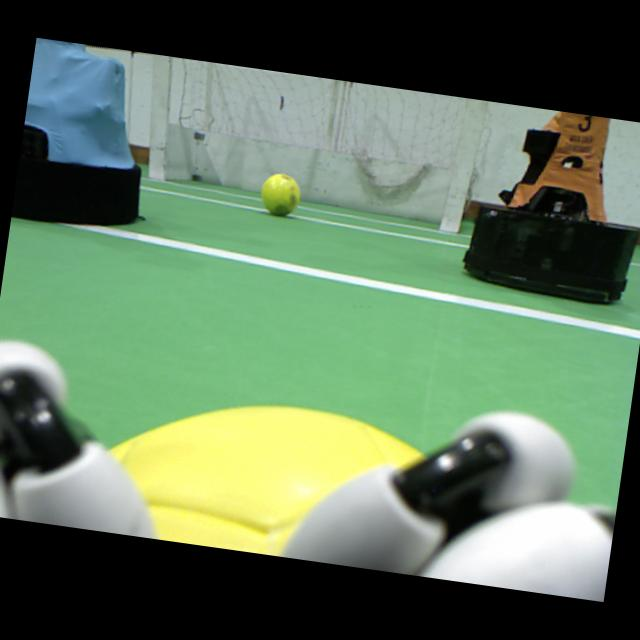ball: (108, 405, 424, 554), (260, 175, 299, 216)
goal: (440, 101, 484, 233), (148, 56, 173, 180)
robot: (463, 111, 640, 301)
